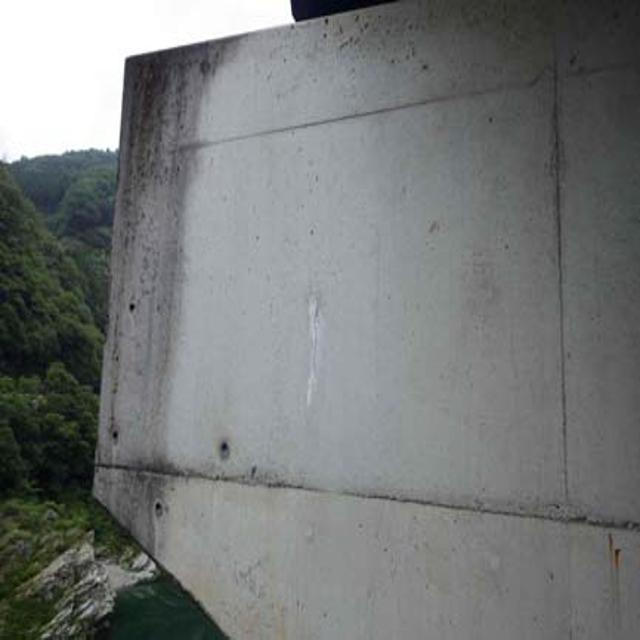leakage: (101, 47, 222, 502)
